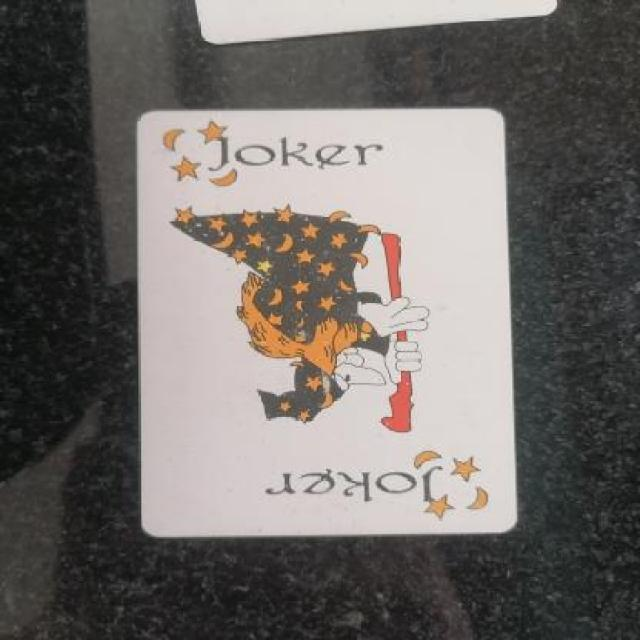BLACK JOKER: (141, 117, 430, 194), (252, 440, 505, 525)
